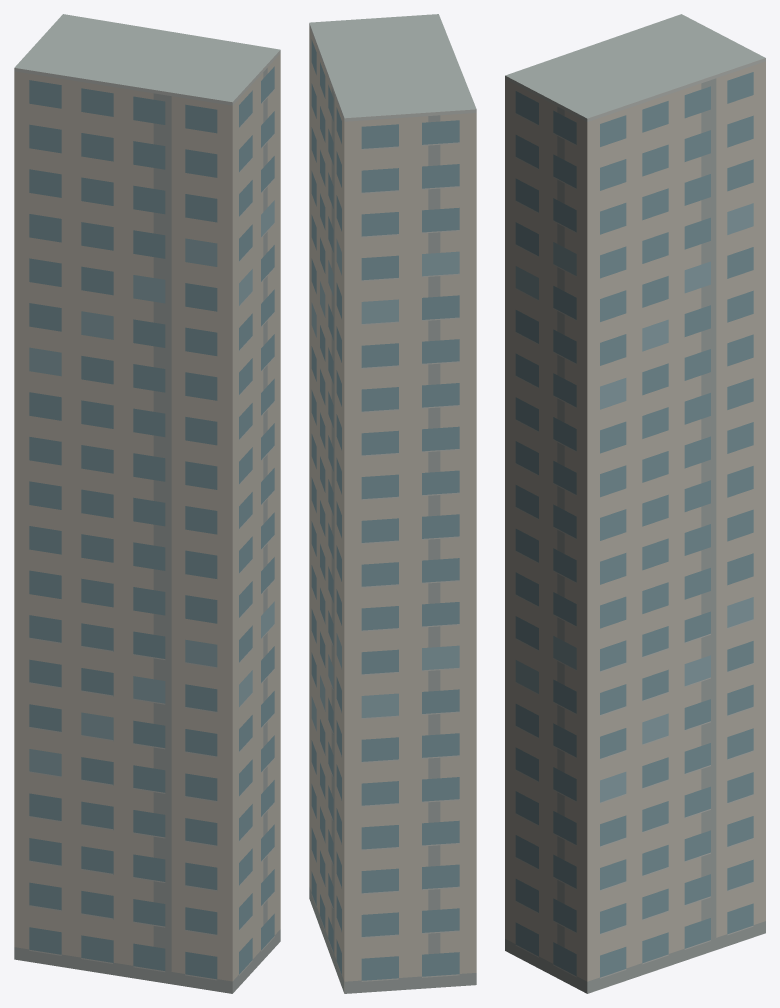
File: survey-upis-32912421.glb
The picture shows the model from 3 angles, left to right: view 1: azimuth 30°, elevation 25°; view 2: azimuth 150°, elevation 25°; view 3: azimuth 270°, elevation 25°; orthographic projection.
Parts seen in each view (by area): view 1: survey-upis-32912421.tmp; view 2: survey-upis-32912421.tmp; view 3: survey-upis-32912421.tmp.
Boxes of the visible parts, x1,y1,x2,y2 form: survey-upis-32912421.tmp: (14,14,280,993); survey-upis-32912421.tmp: (309,14,476,993); survey-upis-32912421.tmp: (505,14,765,993).
Size of the model in its own units: 15.65 by 61 by 16.47.
